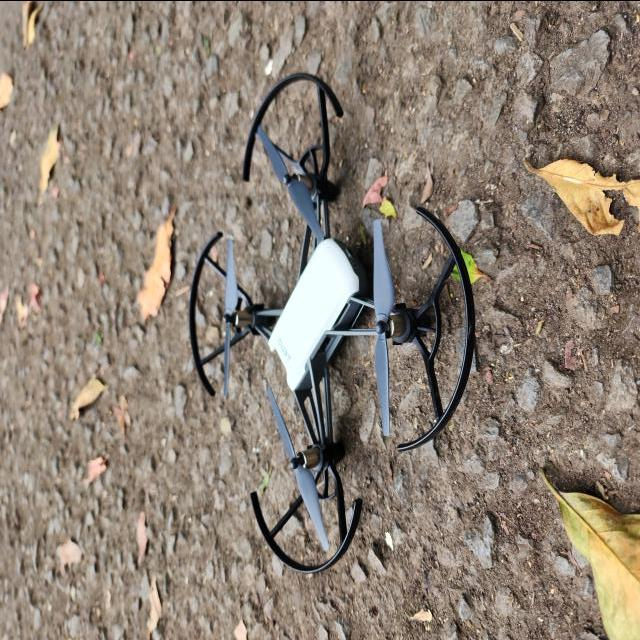drone: (183, 62, 482, 578)
